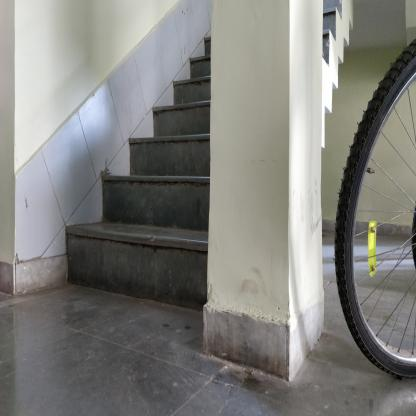stairs: (154, 102, 204, 326)
